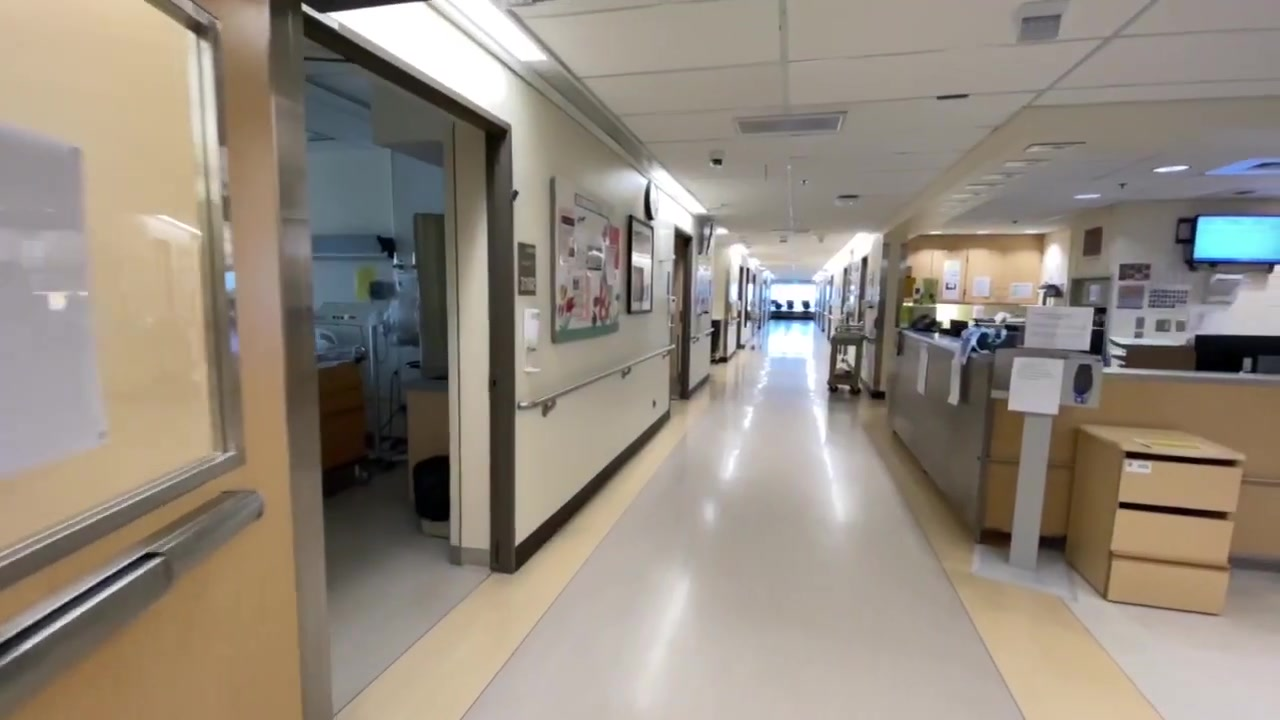TV: (1187, 215, 1280, 269)
cabinet: (913, 232, 1044, 306)
computer: (1194, 334, 1280, 374)
counter: (990, 350, 1279, 573), (886, 327, 988, 533)
countertop: (901, 329, 1011, 361)
dispenser: (1067, 352, 1104, 413), (522, 308, 540, 352), (667, 296, 677, 327)
drawer: (1072, 423, 1246, 610)
hallway_assist_bar: (515, 332, 677, 423)
push_latch: (1, 487, 262, 689)
utility_cart: (828, 321, 868, 396)
waste_bin: (414, 460, 452, 536)
